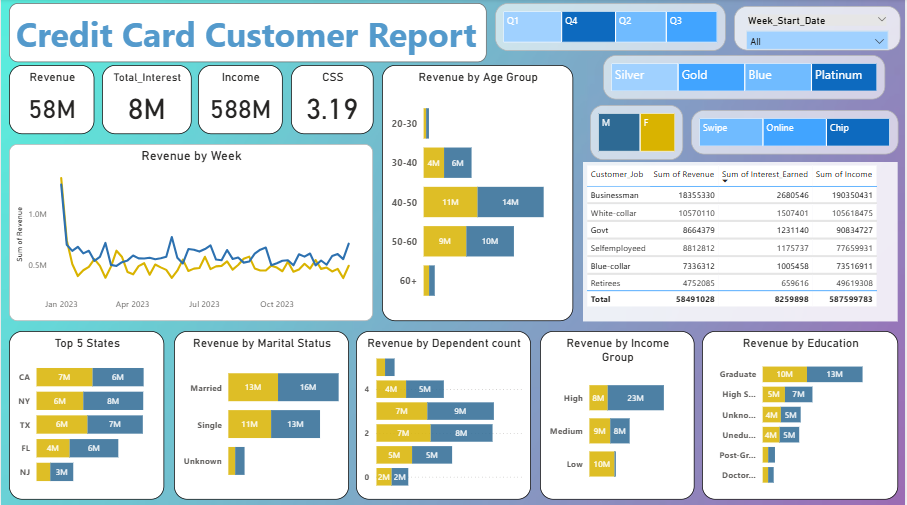

This screenshot's page, from the dashboard's own definition file:
{"tool":"powerbi","page":{"name":"CC Customer","canvas":[1280,720],"ordinal":1},"visuals":[{"type":"textbox","box":[11.5,5.8,676.8,83.5],"z":0},{"type":"card","title":"Revenue","fields":{"Values":["Sum(ccdb cc_detail.Revenue)"]},"box":[11.5,93.6,121,97.9],"z":1000},{"type":"card","title":"Total_Interest","fields":{"Values":["Sum(ccdb cc_detail.Interest_Earned)"]},"box":[142.6,93.6,126.7,97.9],"z":2000},{"type":"card","title":"Income","fields":{"Values":["Sum(ccdb cust_detail.Income)"]},"box":[279.4,93.6,119.5,97.9],"z":3000},{"type":"card","title":"CSS","fields":{"Values":["Avg(ccdb cust_detail.Cust_Satisfaction_Score)"]},"box":[410.4,93.6,116.6,97.9],"z":4000},{"type":"slicer","fields":{"Values":["ccdb cc_detail.Week_Start_Date"]},"box":[1038.2,10.1,236.2,63.4],"z":5000},{"type":"treemap","fields":{"Group":["ccdb cc_detail.Qtr"],"Values":["CountNonNull(ccdb cc_detail.Week_Num)"]},"box":[699.8,5.8,326.9,67.7],"z":6000},{"type":"treemap","fields":{"Group":["ccdb cc_detail.Card_Category"],"Values":["Avg(ccdb cc_detail.Client_Num)"]},"box":[853.9,79.2,400.3,63.4],"z":7000},{"type":"lineChart","title":"Revenue by Week","fields":{"Series":["ccdb cust_detail.Gender"],"Y":["Sum(ccdb cc_detail.Revenue)"],"Category":["ccdb cc_detail.Week_Start_Date.Variation.Date Hierarchy.Year","ccdb cc_detail.Week_Start_Date.Variation.Date Hierarchy.Month","ccdb cc_detail.Week_Start_Date.Variation.Date Hierarchy.Day"]},"box":[11.5,205.9,515.5,250.6],"z":8000},{"type":"treemap","fields":{"Group":["ccdb cust_detail.Gender"],"Values":["Sum(ccdb cc_detail.Revenue)"]},"box":[835.2,149.8,132.5,77.8],"z":9000},{"type":"barChart","title":" Revenue by Income Group","fields":{"Y":["Sum(ccdb cc_detail.Revenue)"],"Category":["ccdb cust_detail.IncomeGroup"],"Series":["ccdb cust_detail.Gender"]},"box":[764.6,470.9,218.9,239],"z":10000},{"type":"barChart","title":" Revenue by Age Group","fields":{"Y":["Sum(ccdb cc_detail.Revenue)"],"Category":["ccdb cust_detail.AgeGroup"],"Series":["ccdb cust_detail.Gender"]},"box":[540,93.6,270.7,362.9],"z":11000},{"type":"barChart","title":" Revenue by Dependent count","fields":{"Y":["Sum(ccdb cc_detail.Revenue)"],"Category":["ccdb cust_detail.Dependent_Count"],"Series":["ccdb cust_detail.Gender"]},"box":[502.6,470.9,247.7,239],"z":12000},{"type":"barChart","title":" Revenue by Education","fields":{"Y":["Sum(ccdb cc_detail.Revenue)"],"Category":["ccdb cust_detail.Education_Level"],"Series":["ccdb cust_detail.Gender"]},"box":[993.6,470.9,277.9,239],"z":13000},{"type":"barChart","title":"Top 5 States","fields":{"Y":["Sum(ccdb cc_detail.Revenue)"],"Category":["ccdb cust_detail.State_cd"],"Series":["ccdb cust_detail.Gender"]},"box":[11.5,470.9,220.3,239],"z":14000},{"type":"tableEx","fields":{"Values":["ccdb cust_detail.Customer_Job","Sum(ccdb cc_detail.Revenue)","Sum(ccdb cc_detail.Interest_Earned)","ccdb cust_detail.Income"]},"box":[825.1,230.4,446.4,226.1],"z":15000},{"type":"barChart","title":" Revenue by Marital Status","fields":{"Y":["Sum(ccdb cc_detail.Revenue)"],"Category":["ccdb cust_detail.Marital_Status"],"Series":["ccdb cust_detail.Gender"]},"box":[244.8,470.9,247.7,239],"z":16000},{"type":"treemap","fields":{"Values":["Avg(ccdb cc_detail.Client_Num)"],"Group":["ccdb cc_detail.Use_Chip"]},"box":[977.8,157,293.8,63.4],"z":17000}]}

Visuals, with their boxes in screenshot pixels (x1, y1, x2, y2), scaled from the page's 1280x720 canvas onto the 907x505 screenshot:
textbox: (left=8, top=4, right=488, bottom=63)
"Revenue" card: (left=8, top=66, right=94, bottom=134)
"Total_Interest" card: (left=101, top=66, right=191, bottom=134)
"Income" card: (left=198, top=66, right=283, bottom=134)
"CSS" card: (left=291, top=66, right=373, bottom=134)
slicer - ccdb cc_detail.Week_Start_Date: (left=736, top=7, right=903, bottom=52)
treemap - ccdb cc_detail.Qtr x CountNonNull(ccdb cc_detail.Week_Num): (left=496, top=4, right=728, bottom=52)
treemap - ccdb cc_detail.Card_Category x Avg(ccdb cc_detail.Client_Num): (left=605, top=56, right=889, bottom=100)
"Revenue by Week" lineChart: (left=8, top=144, right=373, bottom=320)
treemap - ccdb cust_detail.Gender x Sum(ccdb cc_detail.Revenue): (left=592, top=105, right=686, bottom=160)
" Revenue by Income Group" barChart: (left=542, top=330, right=697, bottom=498)
" Revenue by Age Group" barChart: (left=383, top=66, right=574, bottom=320)
" Revenue by Dependent count" barChart: (left=356, top=330, right=532, bottom=498)
" Revenue by Education" barChart: (left=704, top=330, right=901, bottom=498)
"Top 5 States" barChart: (left=8, top=330, right=164, bottom=498)
tableEx - ccdb cust_detail.Customer_Job x Sum(ccdb cc_detail.Revenue): (left=585, top=162, right=901, bottom=320)
" Revenue by Marital Status" barChart: (left=173, top=330, right=349, bottom=498)
treemap - Avg(ccdb cc_detail.Client_Num) x ccdb cc_detail.Use_Chip: (left=693, top=110, right=901, bottom=155)
